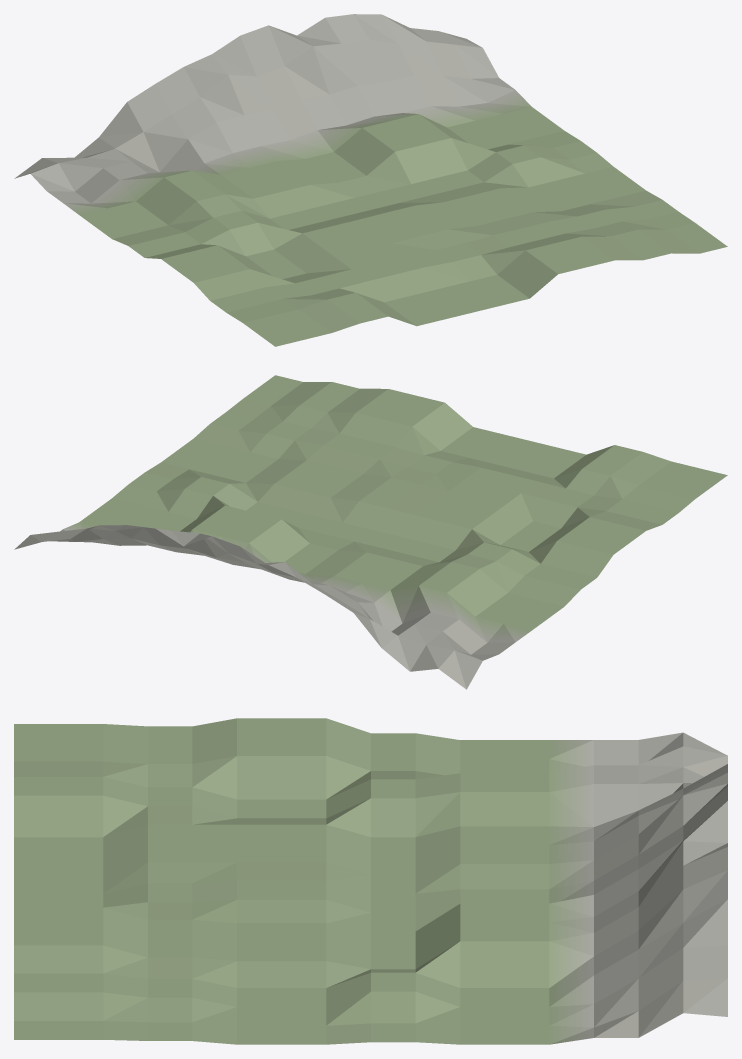
The picture shows the model from 3 angles, top to bottom: view 1: azimuth 30°, elevation 25°; view 2: azimuth 150°, elevation 25°; view 3: azimuth 270°, elevation 25°; orthographic projection. The views are drawn at different scales.
Size of the model in its own units: 32 by 6.18 by 32.
